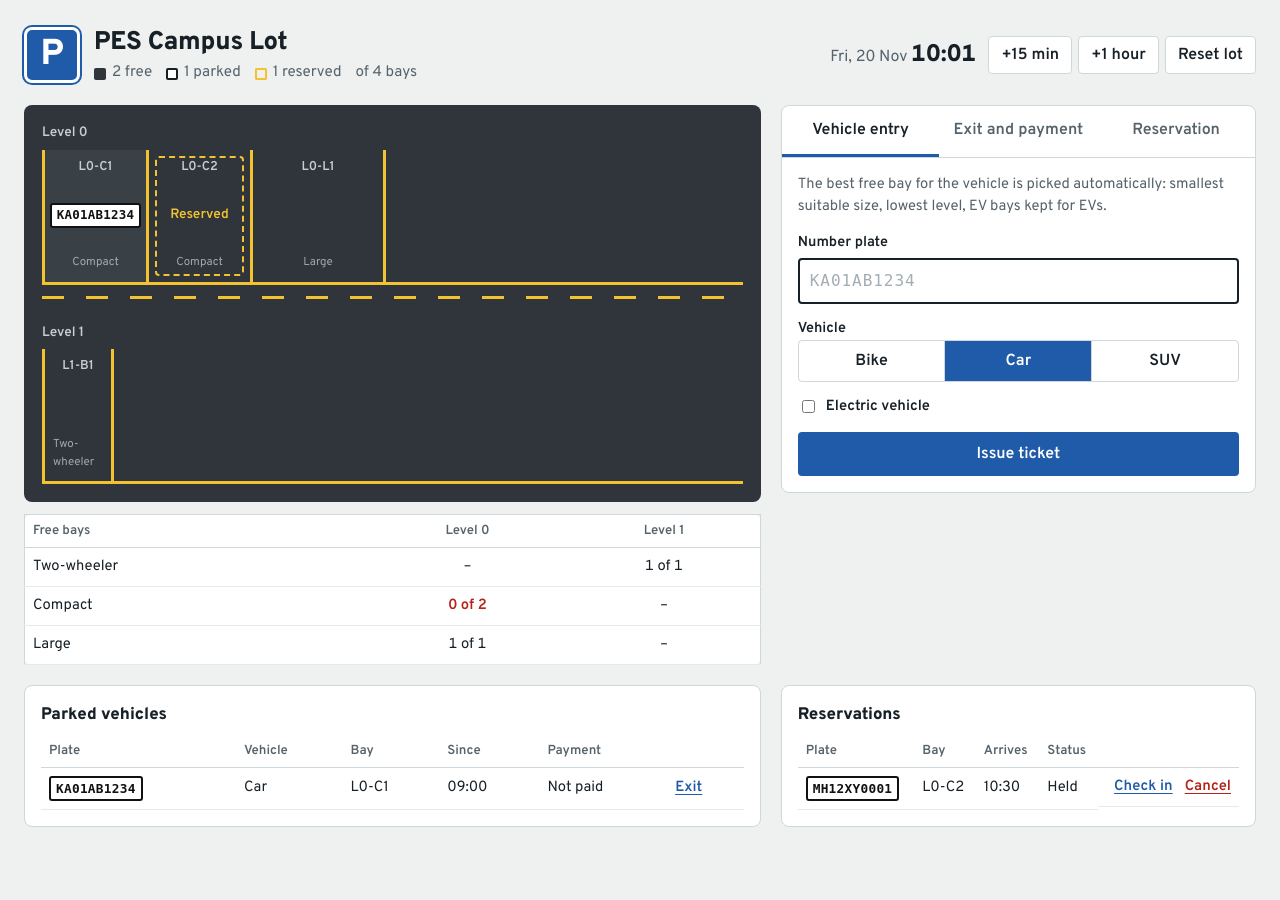
it: App › shows the API error message when entry is refused
Step 1. Type "KA05MN4321" into the field labelled "Number plate" → (1018, 281), box [798, 258, 1239, 304]
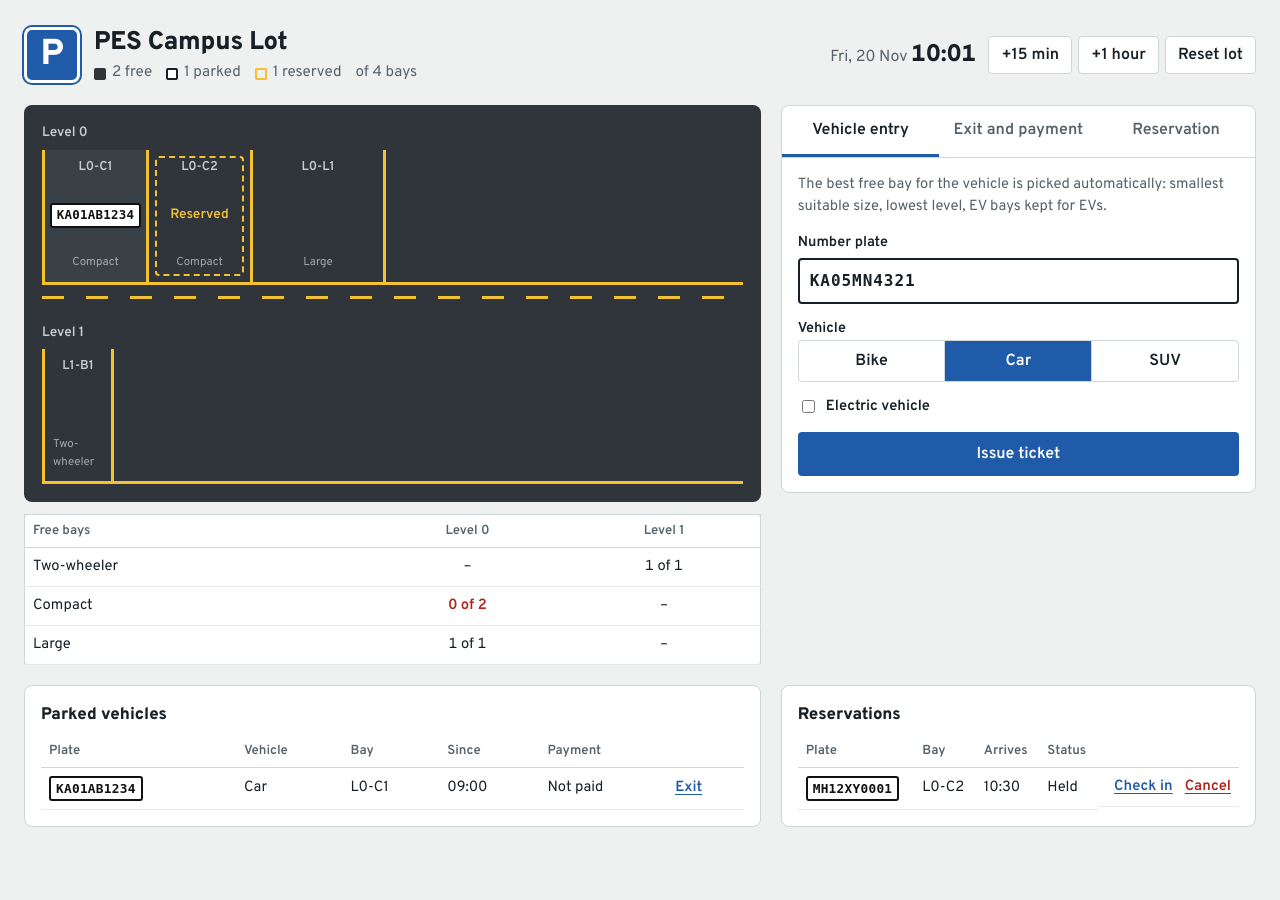
Step 2. Click the button "Issue ticket" → (1018, 454), box [798, 432, 1239, 476]
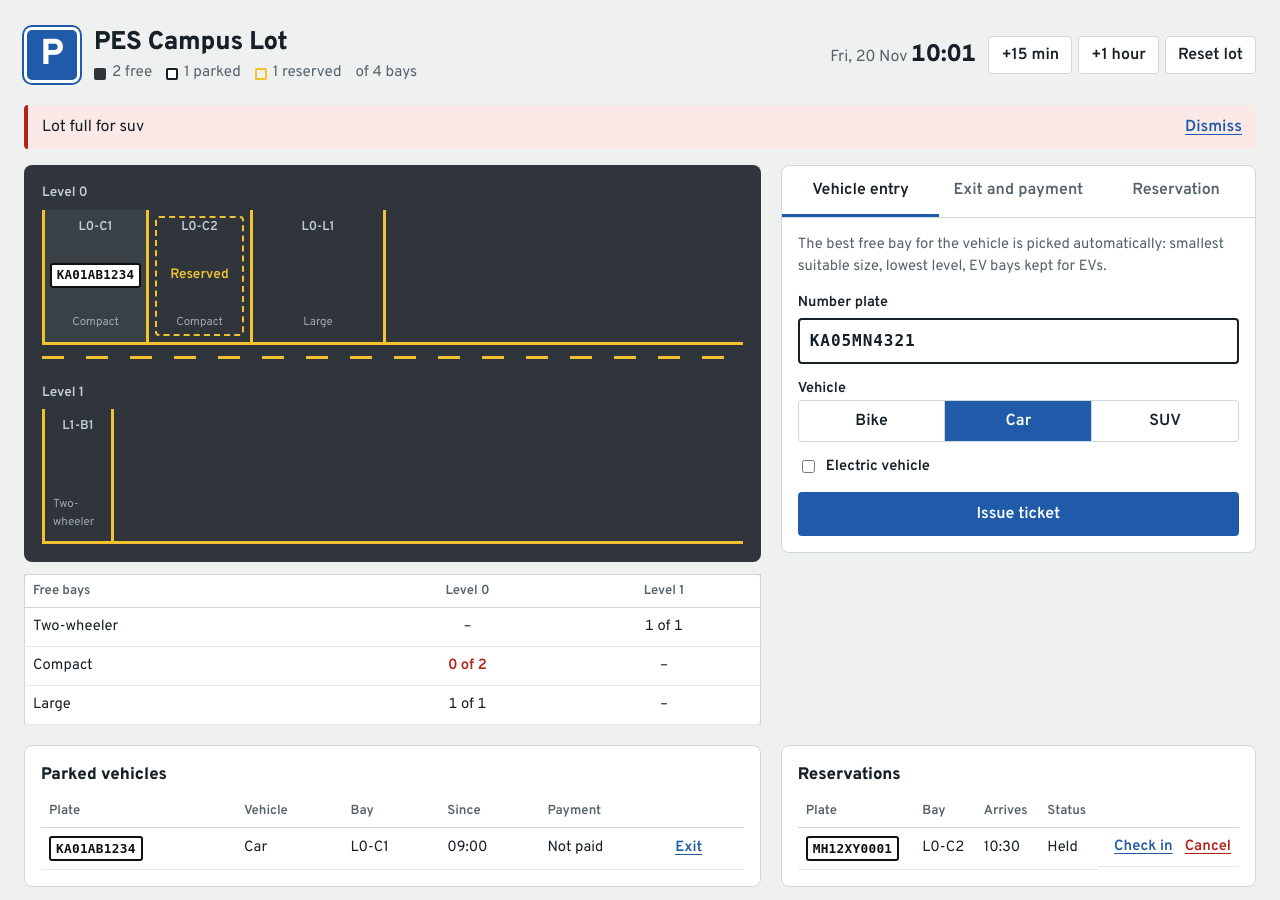
Result: the text "Lot full for suv" is shown at [42, 117, 144, 137]
